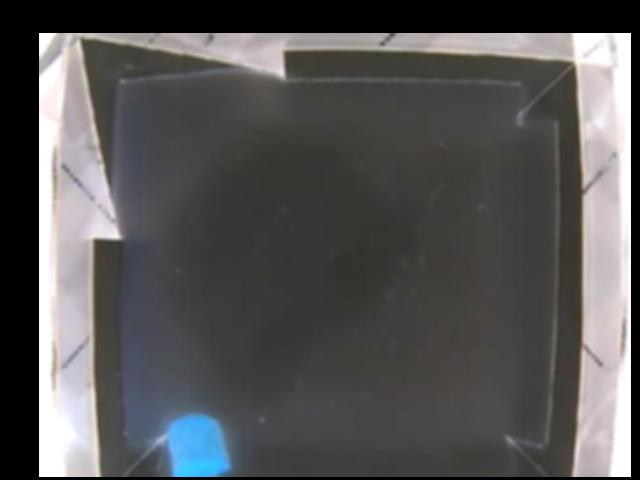Carrot: (167, 413, 232, 476)
